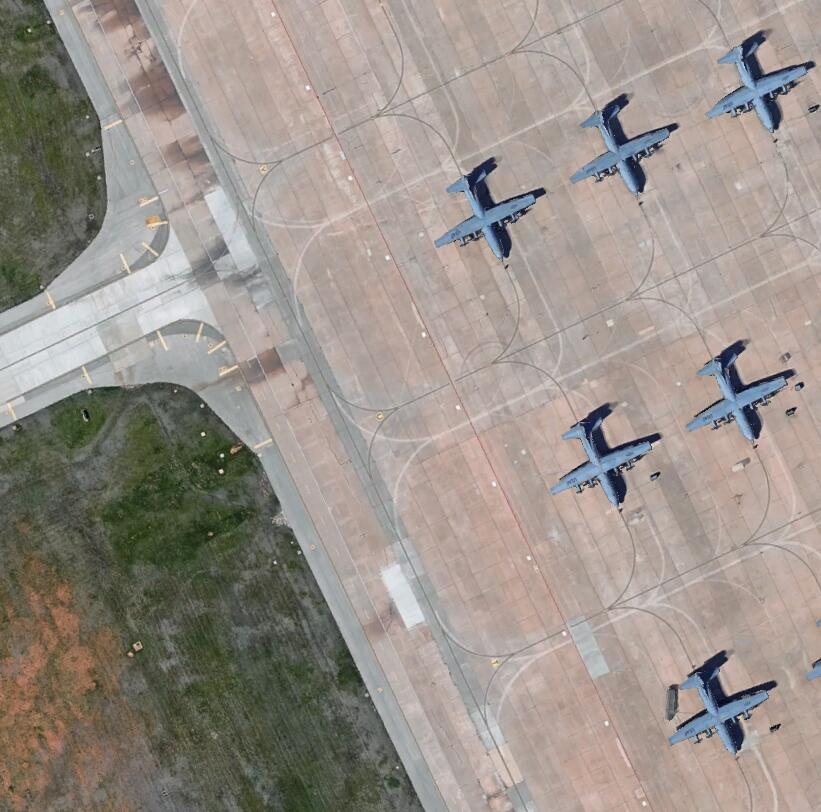A2: (656, 644, 782, 754), (432, 157, 550, 267), (703, 26, 820, 135), (548, 404, 665, 510), (567, 95, 687, 196), (684, 340, 802, 442)
